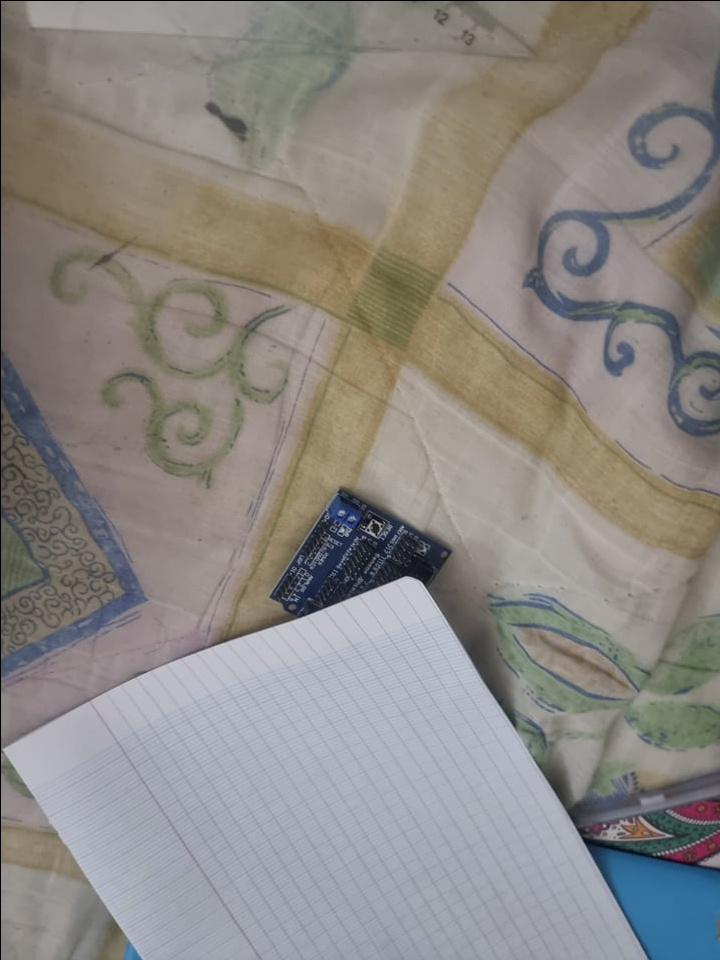5V EXPANSION: (266, 484, 452, 618)
